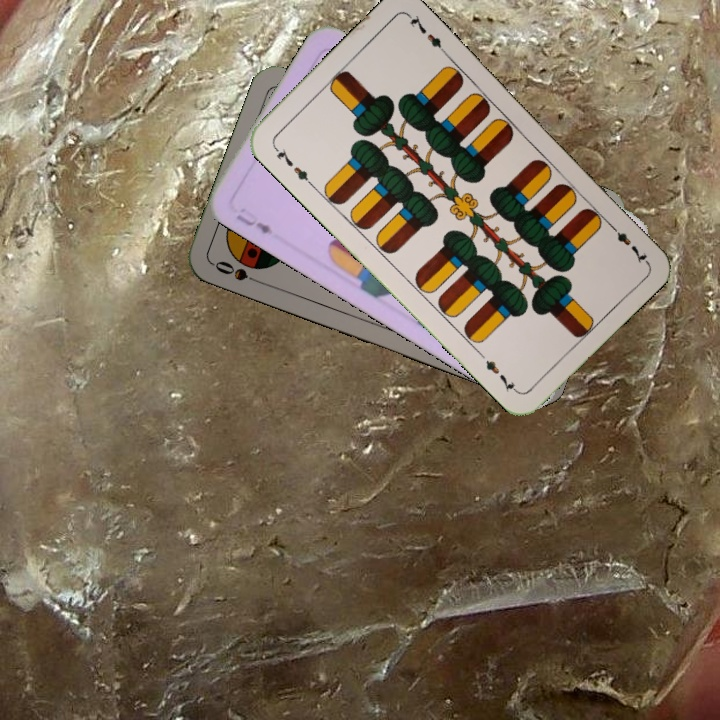E7: (269, 141, 315, 188), (604, 219, 650, 266)
EU: (232, 204, 276, 238)
SO: (210, 257, 266, 288)
